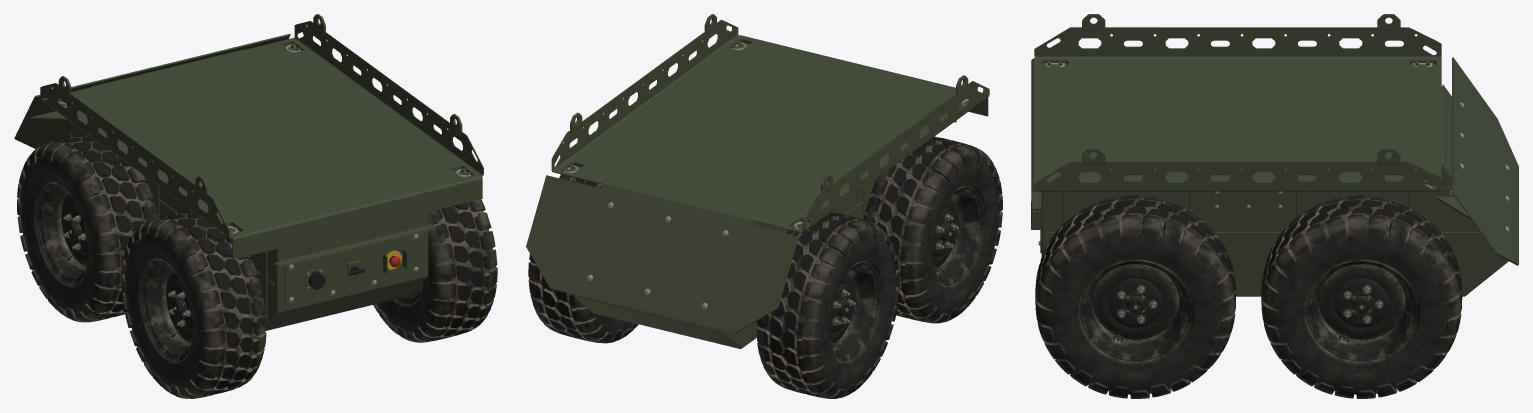
The model's file is zmiy_logistic.glb.
3 renders of one model, left to right at view 1: azimuth 30°, elevation 25°; view 2: azimuth 150°, elevation 25°; view 3: azimuth 270°, elevation 25°, orthographic. The views are drawn at different scales.
Parts seen in each view (by area): view 1: Deck, Wheel_RL, Wheel_FL, Wheel_RR, Hull, Rear, FrontGuard; view 2: Deck, FrontGuard, Wheel_FL, Wheel_RL, Hull, Wheel_FR; view 3: Deck, Wheel_RR, Wheel_FR, Hull, FrontGuard, Rear.
Boxes of the visible parts, x1,y1,x2,y2 form: Deck: [40, 14, 483, 259]; Wheel_RL: [121, 209, 266, 398]; Wheel_FL: [17, 133, 157, 322]; Wheel_RR: [373, 199, 497, 342]; Hull: [67, 49, 428, 330]; Rear: [274, 224, 436, 308]; FrontGuard: [14, 33, 290, 148]; Deck: [551, 14, 989, 233]; FrontGuard: [526, 175, 798, 333]; Wheel_FL: [756, 212, 899, 398]; Wheel_RL: [863, 136, 1002, 323]; Hull: [570, 178, 878, 348]; Wheel_FR: [528, 175, 638, 343]; Deck: [1031, 14, 1441, 213]; Wheel_RR: [1035, 195, 1235, 398]; Wheel_FR: [1261, 195, 1462, 398]; Hull: [1041, 84, 1508, 296]; FrontGuard: [1436, 57, 1518, 265]; Rear: [1031, 191, 1041, 253].
Bounding box in the file's own units: 1.42 × 1.05 × 1.88.
6 materials, 1 textured.
